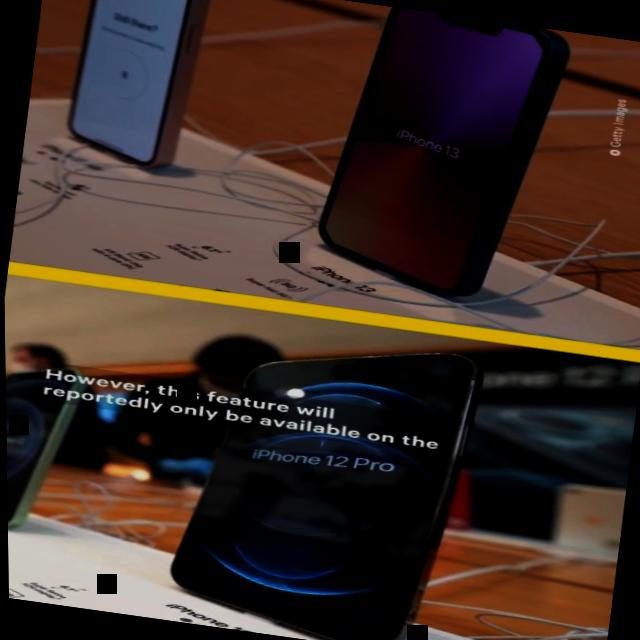Mask: (192, 360, 247, 406), (4, 348, 40, 377)
